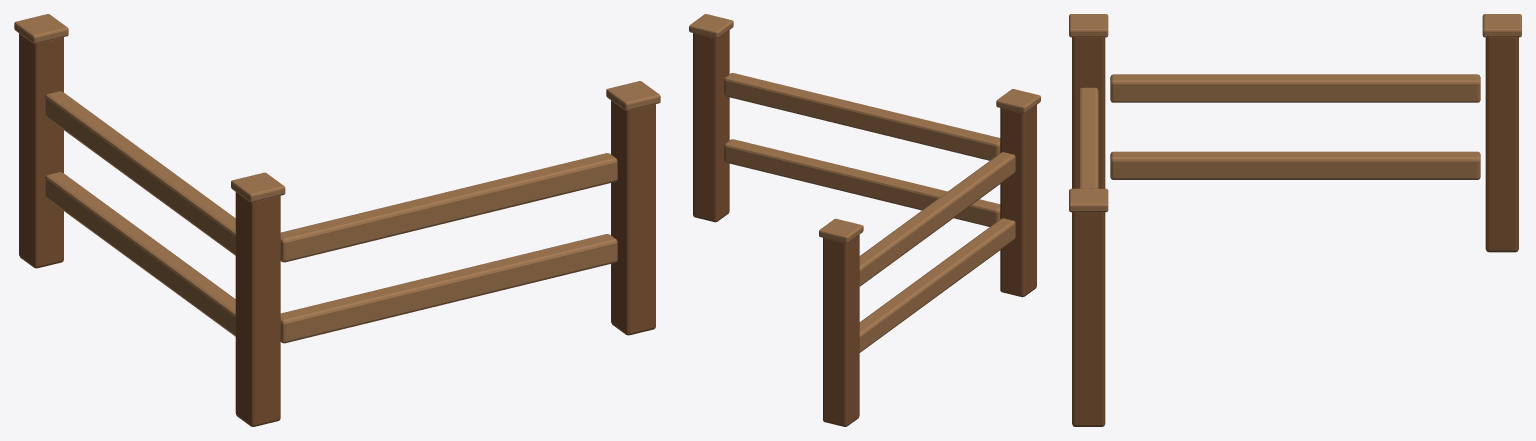
The model's file is fence_corner_2m.glb.
The picture shows the model from 3 angles, left to right: view 1: azimuth 30°, elevation 25°; view 2: azimuth 150°, elevation 25°; view 3: azimuth 270°, elevation 25°; orthographic projection. The views are drawn at different scales.
Visible parts, largest first — view 1: rail.002, rail.003, post.006, post.007, post.008, rail.004, rail.005, post_cap.002, post_cap.003, post_cap.004; view 2: rail.003, post.008, post.007, rail.002, post.006, rail.004, rail.005, post_cap.004, post_cap.002, post_cap.003; view 3: rail.005, rail.004, post.008, post.007, post.006, rail.003, post_cap.003, post_cap.002, post_cap.004.
Boxes of the visible parts, x1,y1,x2,y2 form: rail.002: (280,234,617,343); rail.003: (280,153,617,262); post.006: (235,192,280,426); post.007: (611,100,655,335); post.008: (19,33,63,268); rail.004: (45,172,235,336); rail.005: (45,91,235,255); post_cap.002: (231,172,285,202); post_cap.003: (606,81,660,110); post_cap.004: (14,14,68,43); rail.003: (724,73,1000,160); post.008: (823,235,859,426); post.007: (693,30,729,222); rail.002: (724,139,1000,226); post.006: (1000,105,1036,297); rail.004: (859,218,1015,352); rail.005: (859,152,1015,286); post_cap.004: (819,218,863,243); post_cap.002: (996,89,1040,113); post_cap.003: (689,14,733,38); rail.005: (1110,74,1480,102); rail.004: (1110,151,1480,179); post.008: (1485,37,1518,252); post.007: (1072,212,1105,426); post.006: (1072,37,1105,188); rail.003: (1079,87,1098,188); post_cap.003: (1069,188,1108,212); post_cap.002: (1069,14,1108,37); post_cap.004: (1482,14,1521,37).
Size of the model in its own units: 2.19 by 1.2 by 2.19.
